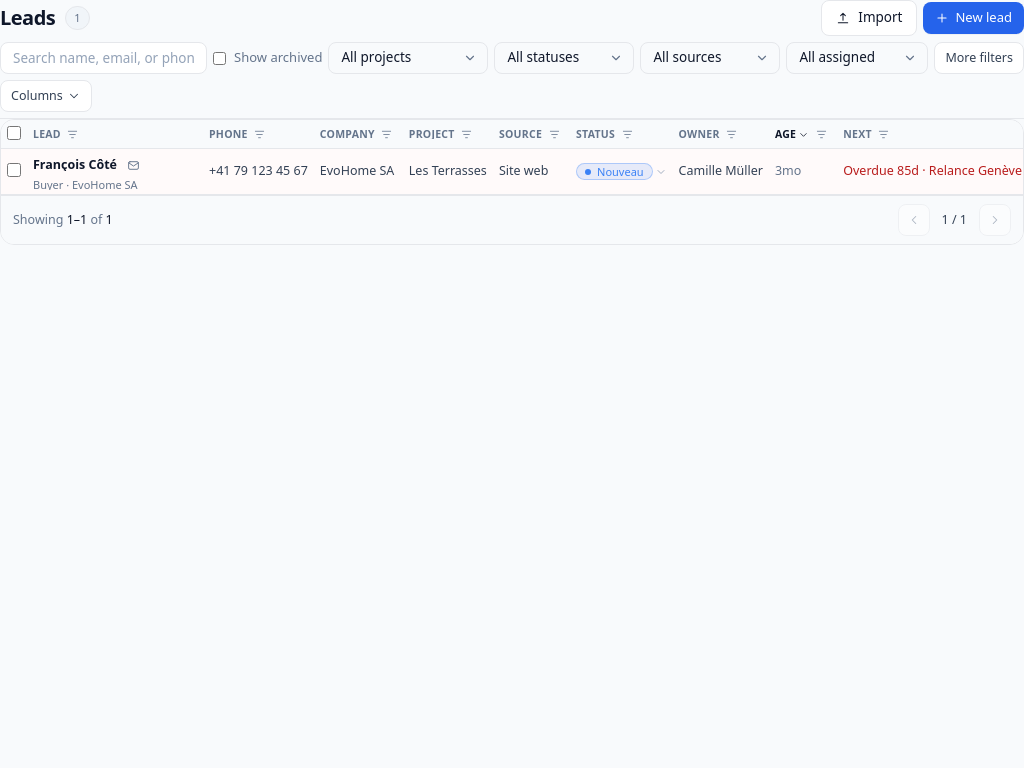
Scenario: LeadsPanel table › only lets status managers create statuses
Click the button with aria-label "Change status for François Côté".
click(621, 172)  # box [576,163,667,180]
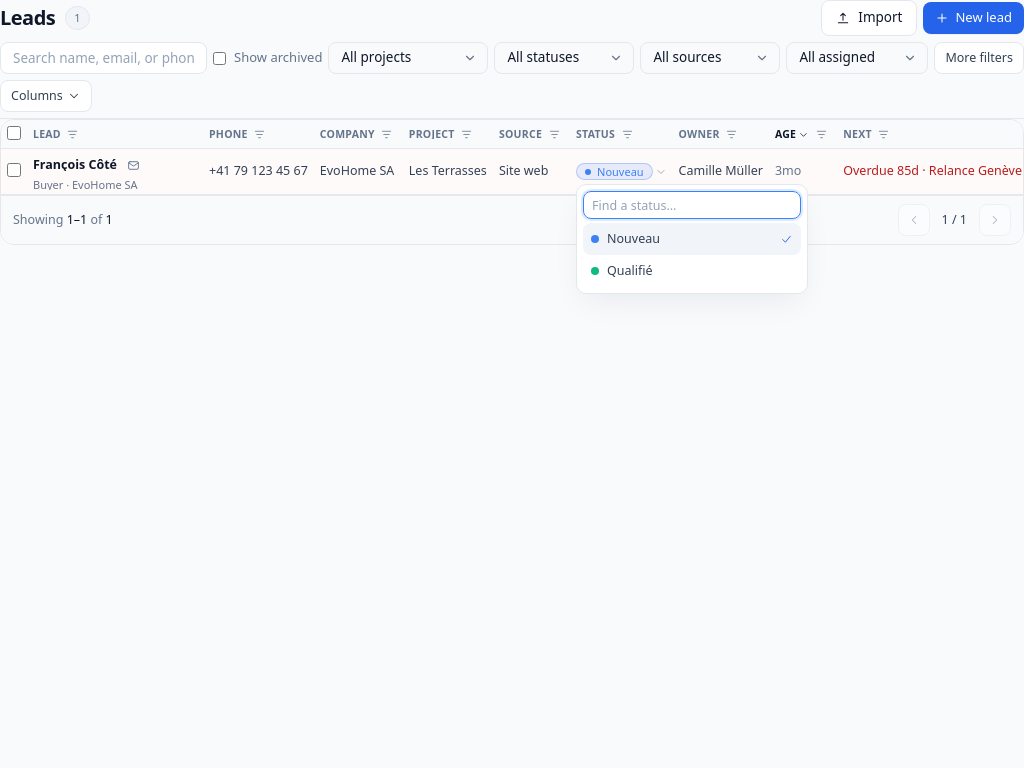
Type "Visite" into the field labelled "Find a status".
click(692, 205); type("Visite")  # box [583,191,801,219]
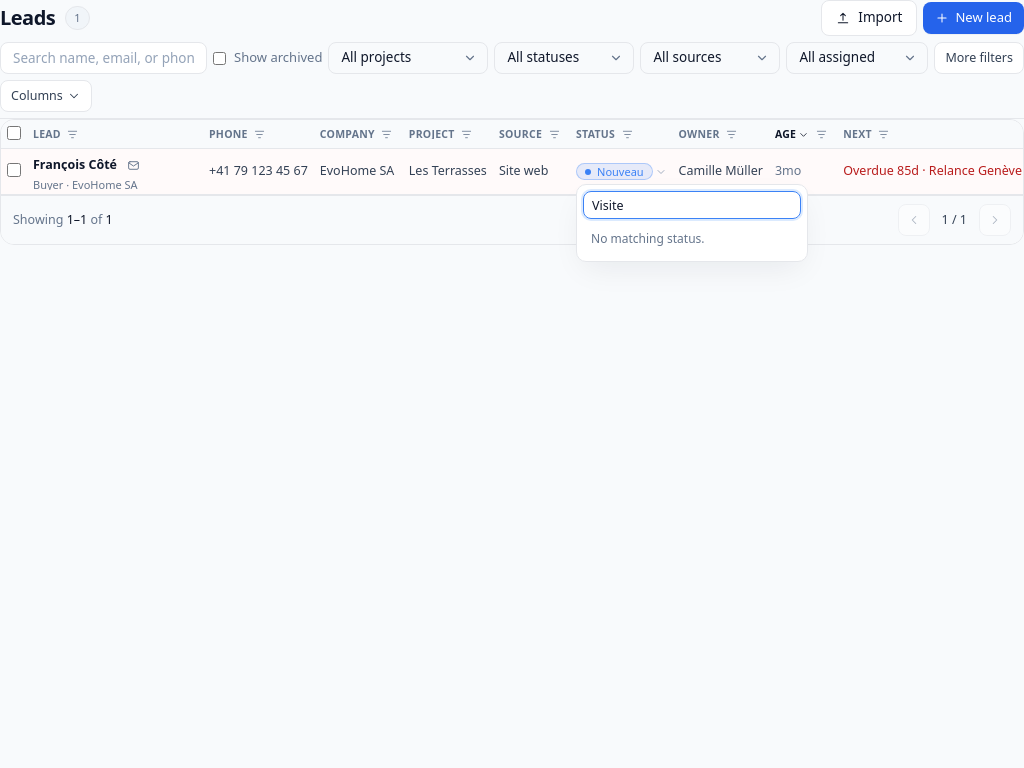
Expected: the text "No matching status." is shown, [591,230,704,247]
